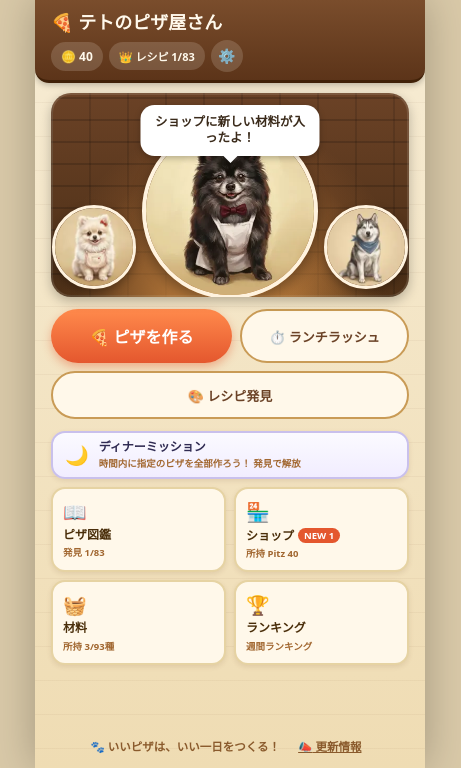
Scenario: I5b-3 migration matrix A-G through the App load path › B Margherita only
Click the button "🏪 ショップ NEW 1 所持 Pitz 40" at (322, 530), box [234,487,409,572]
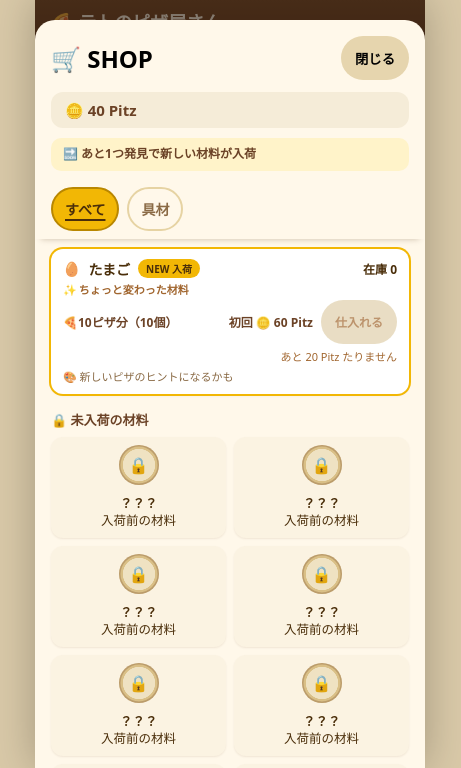
expect the element with class "shop-item" shows "在庫 0": met, box [51,249,409,394]
